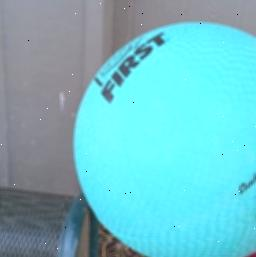algae: (66, 16, 256, 257)
